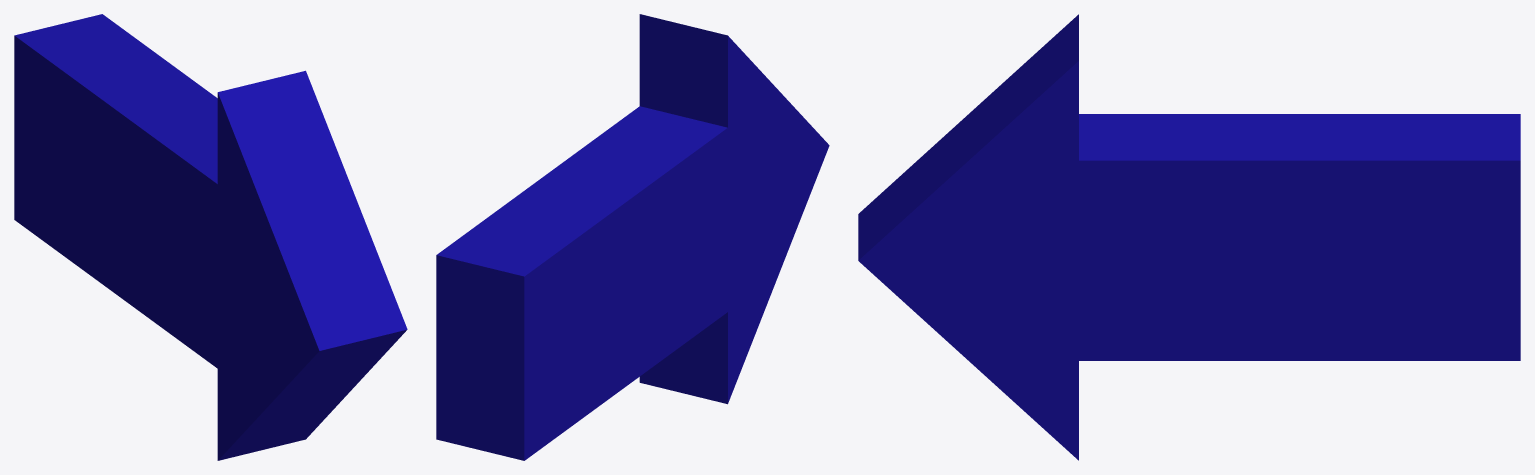
File: flechaAzul.fbx
3 views of the same model, side by side, from view 1: azimuth 30°, elevation 25°; view 2: azimuth 150°, elevation 25°; view 3: azimuth 270°, elevation 25° (orthographic). The views are drawn at different scales.
Visible parts, largest first — view 1: Cube; view 2: Cube; view 3: Cube.
Boxes of the visible parts, x1=… form: Cube: x1=14, y1=14, x2=407, y2=460; Cube: x1=436, y1=14, x2=829, y2=460; Cube: x1=858, y1=14, x2=1520, y2=460.
Size of the model in its own units: 25.03 by 100 by 150.
Materials: 1 (1 with a texture image).
